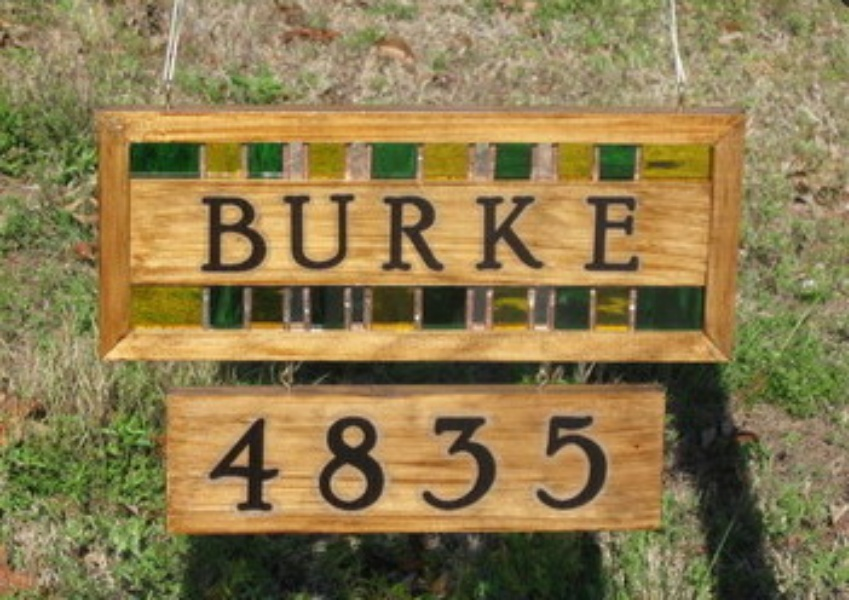text: (209, 412, 224, 511), (225, 412, 240, 511), (241, 412, 256, 511), (257, 412, 272, 511), (273, 412, 288, 511), (289, 412, 304, 511), (305, 412, 320, 511), (321, 412, 336, 511), (337, 412, 352, 511), (353, 412, 368, 511), (369, 412, 384, 511), (385, 412, 400, 511), (401, 412, 416, 511), (417, 412, 432, 511), (433, 412, 448, 511), (449, 412, 464, 511), (465, 412, 480, 511), (481, 412, 496, 511), (497, 412, 512, 511), (513, 412, 528, 511), (529, 412, 544, 511), (545, 412, 560, 511), (561, 412, 576, 511), (577, 412, 592, 511), (593, 412, 608, 511), (209, 189, 224, 271), (225, 189, 240, 271), (241, 189, 256, 271), (257, 189, 272, 271), (273, 189, 288, 271), (289, 189, 304, 271), (305, 189, 320, 271), (321, 189, 336, 271), (337, 189, 352, 271), (353, 189, 368, 271), (369, 189, 384, 271), (385, 189, 400, 271), (401, 189, 416, 271), (417, 189, 432, 271), (433, 189, 448, 271), (449, 189, 464, 271), (465, 189, 480, 271), (481, 189, 496, 271), (497, 189, 512, 271), (513, 189, 528, 271), (529, 189, 544, 271), (545, 189, 560, 271), (561, 189, 576, 271), (577, 189, 592, 271), (593, 189, 608, 271), (609, 189, 624, 271), (625, 189, 639, 271), (199, 189, 208, 271), (201, 412, 208, 511), (609, 412, 610, 511)
